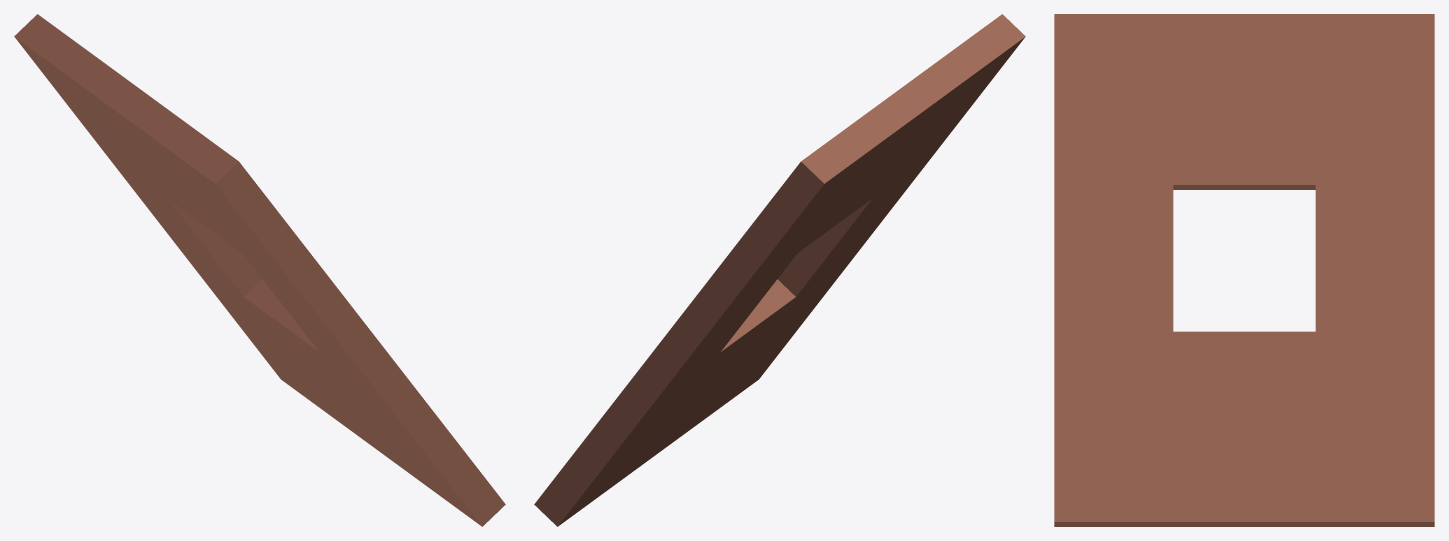
Rendered from SARM_SAR_Building_RUB_001_Wall_E_00.glb.
3 renders of one model, left to right at view 1: azimuth 30°, elevation 25°; view 2: azimuth 150°, elevation 25°; view 3: azimuth 270°, elevation 25°, orthographic. The views are drawn at different scales.
Visible parts, largest first — view 1: SAR_Building_RUB_001_Wall_E_00.001; view 2: SAR_Building_RUB_001_Wall_E_00.001; view 3: SAR_Building_RUB_001_Wall_E_00.001.
Part boxes in pixels (x1,y1,x2,y2): SAR_Building_RUB_001_Wall_E_00.001: (14,14,505,526); SAR_Building_RUB_001_Wall_E_00.001: (534,14,1025,526); SAR_Building_RUB_001_Wall_E_00.001: (1054,14,1434,526).
Size of the model in its own units: 2.66 by 3.72 by 3.2.
